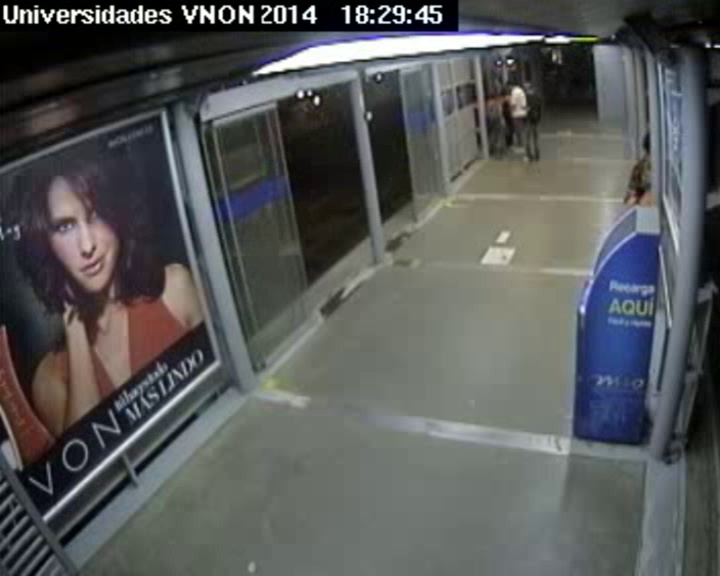person: (520, 77, 536, 95), (504, 77, 519, 92), (488, 88, 501, 101)
